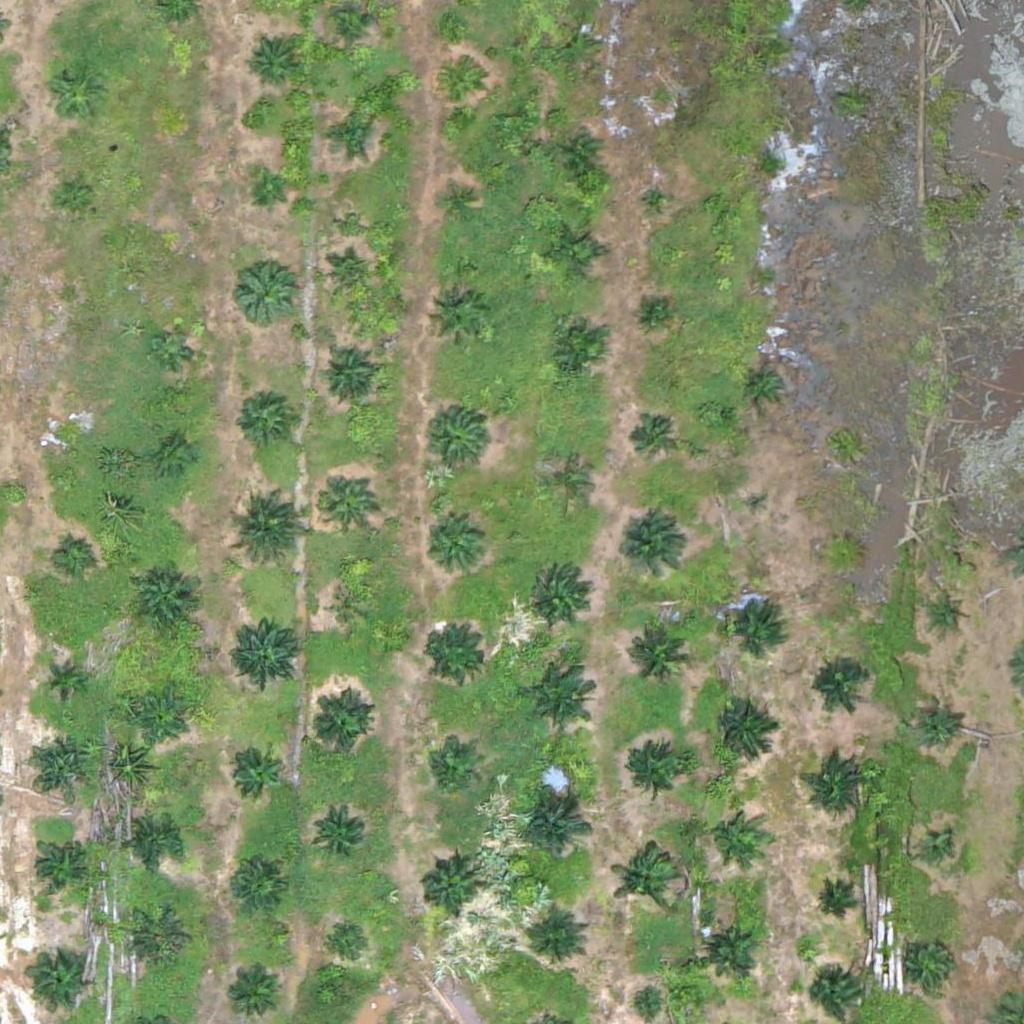Kelapa_Sawit: (618, 742, 693, 818), (521, 661, 596, 737), (614, 514, 689, 590), (622, 616, 697, 692), (610, 844, 685, 920), (226, 495, 301, 570), (228, 609, 303, 684), (519, 793, 594, 868), (27, 731, 90, 794), (232, 259, 295, 322), (43, 63, 106, 126), (723, 591, 786, 654), (308, 693, 371, 756), (313, 800, 376, 863), (28, 950, 91, 1013), (527, 911, 590, 974), (699, 916, 762, 979), (419, 859, 482, 922), (131, 569, 193, 632), (233, 386, 295, 449), (809, 753, 871, 816), (316, 343, 378, 406), (808, 653, 870, 716), (426, 623, 488, 686), (712, 699, 775, 761), (529, 565, 591, 628), (426, 287, 488, 350), (546, 320, 608, 383), (424, 407, 486, 470), (428, 518, 490, 581), (318, 472, 380, 535), (127, 909, 189, 972), (545, 221, 607, 284), (133, 696, 183, 747), (228, 747, 278, 798), (244, 39, 294, 90), (321, 109, 371, 160), (232, 860, 282, 911), (325, 918, 375, 969), (627, 413, 677, 464), (128, 818, 178, 868), (708, 808, 758, 858), (427, 741, 477, 791), (227, 971, 277, 1021), (32, 841, 82, 891), (809, 971, 859, 1021), (909, 938, 959, 988), (911, 697, 961, 747), (542, 458, 592, 508), (741, 361, 791, 411), (322, 252, 372, 302), (326, 3, 376, 53), (928, 595, 966, 633), (918, 833, 956, 871), (825, 535, 863, 573), (639, 183, 677, 221), (563, 135, 601, 173), (443, 68, 481, 106), (442, 188, 480, 226), (559, 26, 597, 64), (52, 424, 90, 462), (157, 440, 194, 478), (813, 884, 850, 922), (332, 589, 369, 627), (43, 662, 80, 700), (57, 538, 95, 575), (249, 172, 286, 210), (57, 178, 94, 215), (152, 328, 189, 365), (641, 299, 666, 325), (745, 489, 770, 514)
